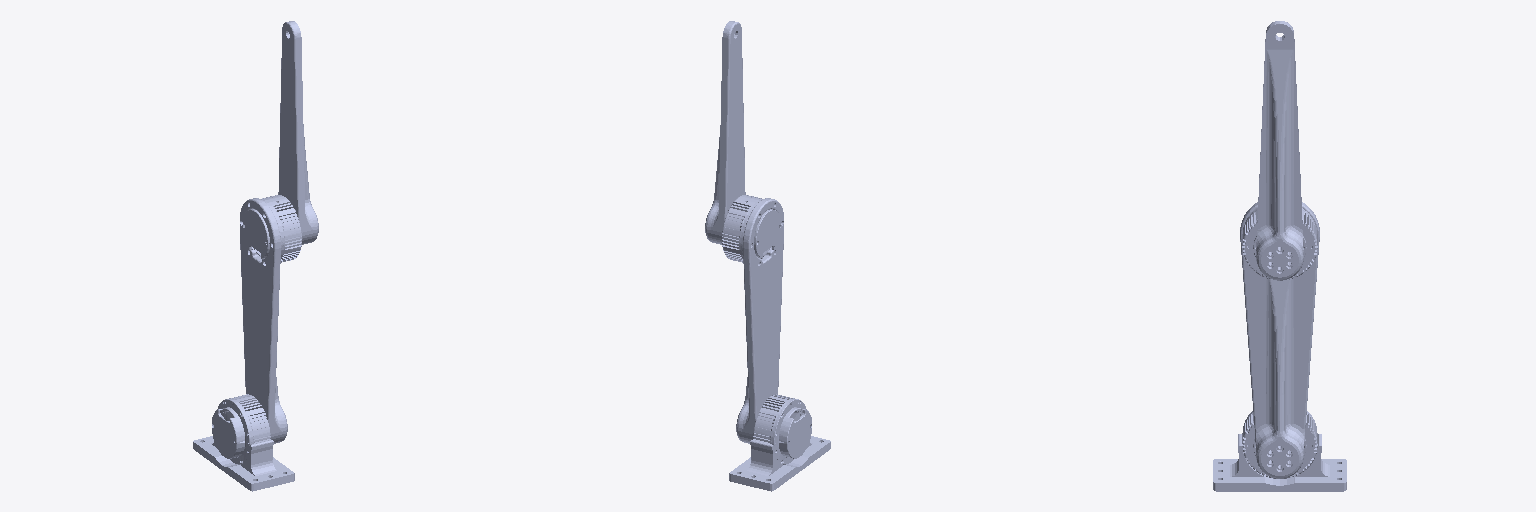
URDF robot description (fyp_robot_urdf):
<?xml version="1.0" encoding="utf-8"?>
<!-- This URDF was automatically created by SolidWorks to URDF Exporter! Originally created by [author] ([email redacted]) 
     Commit Version: 1.6.0-4-g7f85cfe  Build Version: 1.6.7995.38578
     For more information, please see http://wiki.ros.org/sw_urdf_exporter -->
<robot
  name="fyp_robot_urdf">
  <link
    name="base_link">
    <inertial>
      <origin
        xyz="-7.12437424298901E-19 6.34716978011748E-18 -1.03627261716204E-17"
        rpy="0 0 0" />
      <mass
        value="0.102173035023111" />
      <inertia
        ixx="0.000173628939136584"
        ixy="-2.06795153138257E-22"
        ixz="-2.58069691561311E-21"
        iyy="3.3437674543937E-05"
        iyz="-1.5043764361097E-20"
        izz="0.000190799013457422" />
    </inertial>
    <visual>
      <origin
        xyz="0 0 0"
        rpy="0 0 0" />
      <geometry>
        <mesh
          filename="package://fyp_robot_urdf/meshes/base_link.STL" />
      </geometry>
      <material
        name="">
        <color
          rgba="0.792156862745098 0.819607843137255 0.933333333333333 1" />
      </material>
    </visual>
    <collision>
      <origin
        xyz="0 0 0"
        rpy="0 0 0" />
      <geometry>
        <mesh
          filename="package://fyp_robot_urdf/meshes/base_link.STL" />
      </geometry>
    </collision>
  </link>
  <link
    name="link1">
    <inertial>
      <origin
        xyz="-1.14851800061109E-07 -0.104996083572528 0.00833061727717447"
        rpy="0 0 0" />
      <mass
        value="0.234233603955478" />
      <inertia
        ixx="0.00169415003748716"
        ixy="-2.2013242422957E-10"
        ixz="2.51908289513765E-11"
        iyy="8.975920939518E-05"
        iyz="-6.09691536241392E-05"
        izz="0.00176266175853981" />
    </inertial>
    <visual>
      <origin
        xyz="0 0 0"
        rpy="0 0 0" />
      <geometry>
        <mesh
          filename="package://fyp_robot_urdf/meshes/link1.STL" />
      </geometry>
      <material
        name="">
        <color
          rgba="0.792156862745098 0.819607843137255 0.933333333333333 1" />
      </material>
    </visual>
    <collision>
      <origin
        xyz="0 0 0"
        rpy="0 0 0" />
      <geometry>
        <mesh
          filename="package://fyp_robot_urdf/meshes/link1.STL" />
      </geometry>
    </collision>
  </link>
  <joint
    name="joint1"
    type="revolute">
    <origin
      xyz="0.0175 0 0.03735"
      rpy="-1.5708 0 -1.5708" />
    <parent
      link="base_link" />
    <child
      link="link1" />
    <axis
      xyz="0 0 -1" />
    <limit
      lower="-1.5708"
      upper="1.5708"
      effort="8"
      velocity="30" />
  </joint>
  <link
    name="link2">
    <inertial>
      <origin
        xyz="-2.04143164574606E-07 -0.0845740345649362 0.00963593169000534"
        rpy="0 0 0" />
      <mass
        value="0.175905723230877" />
      <inertia
        ixx="0.00112242216598225"
        ixy="-1.6430030532982E-09"
        ixz="-5.36510996950036E-12"
        iyy="3.170063038781E-05"
        iyz="-4.27661808317735E-05"
        izz="0.00113540072351022" />
    </inertial>
    <visual>
      <origin
        xyz="0 0 0"
        rpy="0 0 0" />
      <geometry>
        <mesh
          filename="package://fyp_robot_urdf/meshes/link2.STL" />
      </geometry>
      <material
        name="">
        <color
          rgba="0.792156862745098 0.819607843137255 0.933333333333333 1" />
      </material>
    </visual>
    <collision>
      <origin
        xyz="0 0 0"
        rpy="0 0 0" />
      <geometry>
        <mesh
          filename="package://fyp_robot_urdf/meshes/link2.STL" />
      </geometry>
    </collision>
  </link>
  <joint
    name="joint2"
    type="revolute">
    <origin
      xyz="0 -0.25 0.0425"
      rpy="0 0 0" />
    <parent
      link="link1" />
    <child
      link="link2" />
    <axis
      xyz="0 0 -1" />
    <limit
      lower="-1.5708"
      upper="1.5708"
      effort="8"
      velocity="30" />
  </joint>
</robot>

--- What the picture shows (computed from the rendered views, not written in the file) ---
Views: 3 orthographic renders of the robot side by side, from view 1: azimuth 30°, elevation 25°; view 2: azimuth 150°, elevation 25°; view 3: azimuth 270°, elevation 25°.
Robot: fyp_robot_urdf — 3 links, 2 joints (2 revolute); root link base_link; default pose: every joint at zero.
Links seen in each view (by area): view 1: link1, base_link, link2; view 2: link1, base_link, link2; view 3: link1, link2, base_link.
Boxes of the visible links, x1,y1,x2,y2 form: link1: (240, 195, 301, 443); base_link: (193, 394, 294, 491); link2: (278, 21, 318, 244); link1: (722, 195, 783, 443); base_link: (729, 394, 830, 491); link2: (705, 21, 745, 244); link1: (1240, 202, 1319, 478); link2: (1256, 21, 1303, 279); base_link: (1213, 411, 1346, 491).
Size in the robot's own frame: 0.12 by 0.14 by 0.5611 metres.
Meshes: 3 distinct files referenced, 3 mesh visuals loaded (3 binary STL).